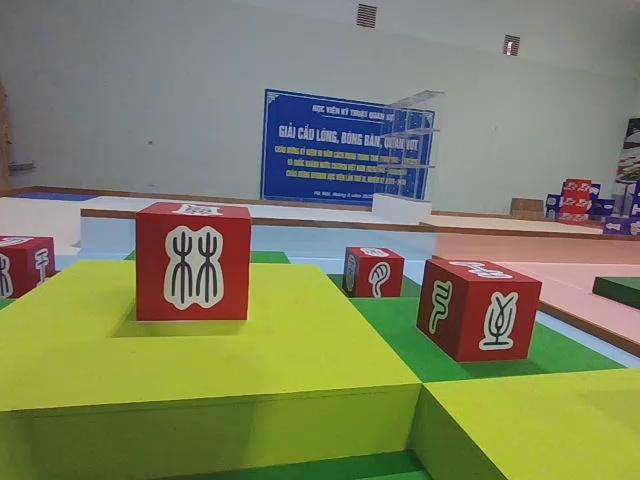R2 Fake: (132, 199, 254, 323), (414, 254, 545, 365), (0, 230, 58, 301), (341, 243, 407, 301)
